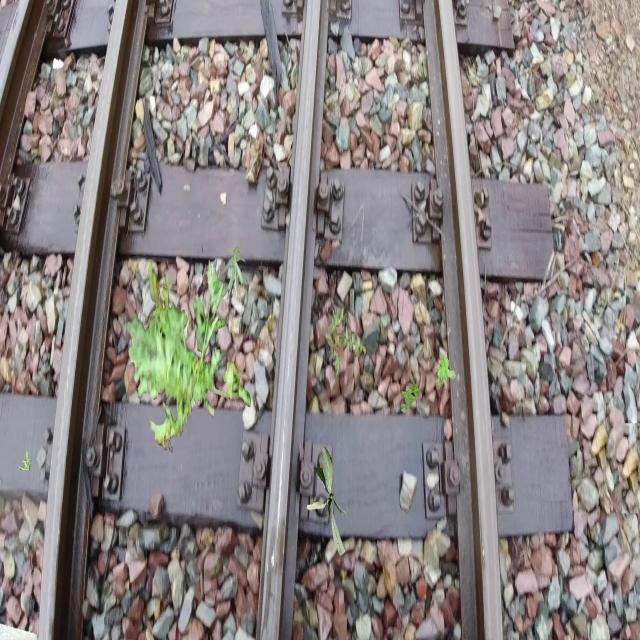Plant: (126, 257, 251, 453), (307, 447, 347, 557), (326, 306, 368, 378), (221, 246, 248, 302), (435, 356, 456, 389), (401, 381, 421, 414), (19, 450, 33, 470)
